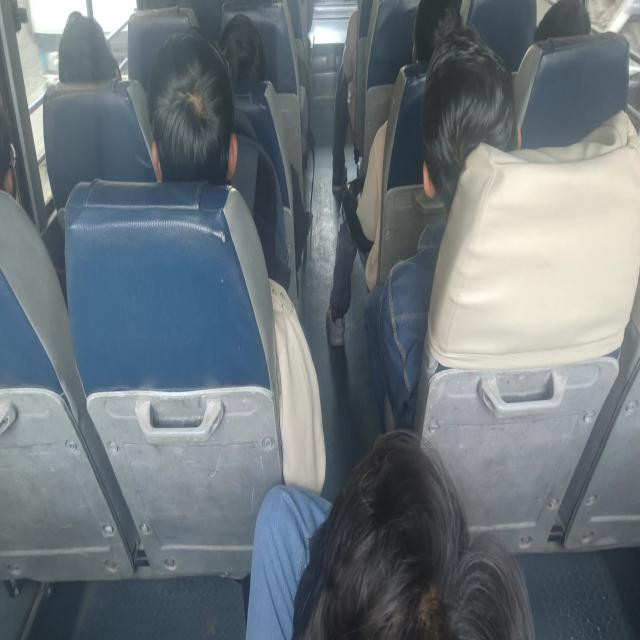person: (146, 29, 326, 493), (362, 22, 522, 430), (245, 428, 535, 638), (325, 0, 461, 347), (146, 29, 291, 292), (146, 30, 238, 184), (331, 9, 359, 193), (57, 10, 121, 82), (219, 13, 266, 83), (411, 0, 462, 64), (533, 0, 591, 42), (0, 100, 17, 197)
